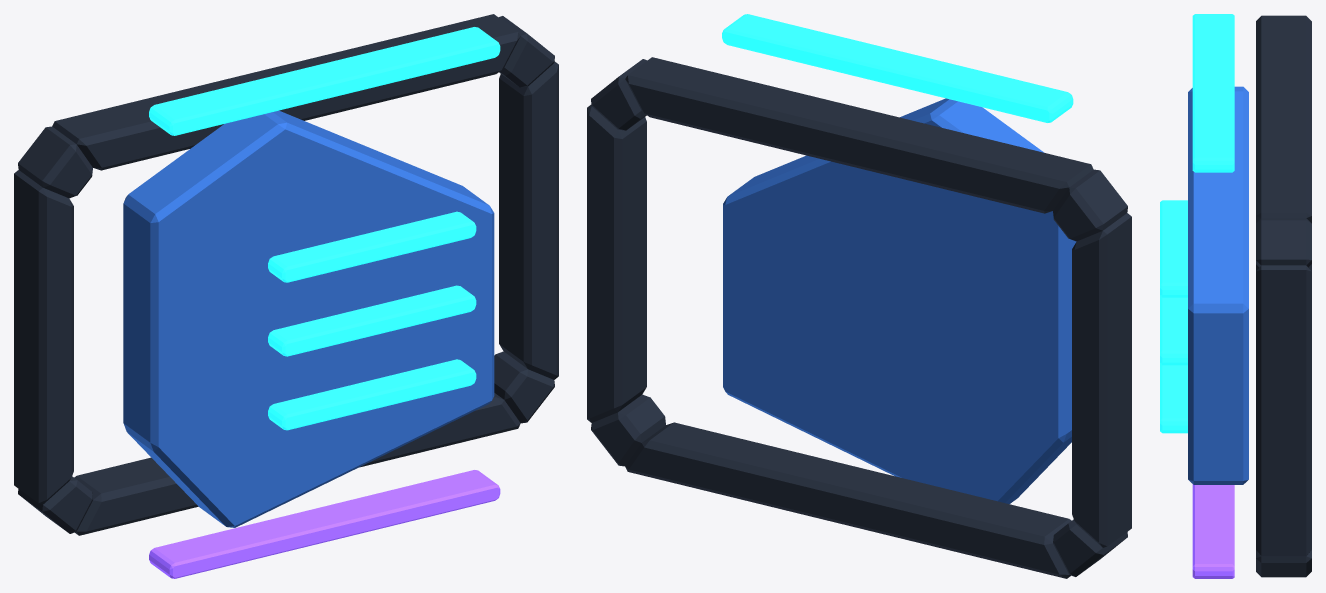
File: tech-visualstudio.glb
The picture shows the model from 3 angles, left to right: view 1: azimuth 30°, elevation 25°; view 2: azimuth 150°, elevation 25°; view 3: azimuth 270°, elevation 25°; orthographic projection. The views are drawn at different scales.
Visible parts, largest first — view 1: tech-visualstudio_CoreMaterial, tech-visualstudio_SystemMaterial, tech-visualstudio_SignalMaterial, tech-visualstudio_AccentMaterial; view 2: tech-visualstudio_CoreMaterial, tech-visualstudio_SystemMaterial, tech-visualstudio_SignalMaterial; view 3: tech-visualstudio_SystemMaterial, tech-visualstudio_CoreMaterial, tech-visualstudio_SignalMaterial, tech-visualstudio_AccentMaterial.
Boxes of the visible parts, box(x1,y1,x2,y2) form: tech-visualstudio_CoreMaterial: box(123, 110, 494, 527); tech-visualstudio_SystemMaterial: box(14, 14, 558, 535); tech-visualstudio_SignalMaterial: box(149, 27, 500, 430); tech-visualstudio_AccentMaterial: box(149, 470, 500, 578); tech-visualstudio_CoreMaterial: box(723, 98, 1076, 503); tech-visualstudio_SystemMaterial: box(587, 57, 1131, 578); tech-visualstudio_SignalMaterial: box(722, 14, 1073, 122); tech-visualstudio_SystemMaterial: box(1256, 15, 1311, 577); tech-visualstudio_CoreMaterial: box(1188, 86, 1248, 484); tech-visualstudio_SignalMaterial: box(1160, 14, 1234, 433); tech-visualstudio_AccentMaterial: box(1192, 484, 1234, 578).
Bounding box in the file's own units: 1.18 × 0.995 × 0.325.
